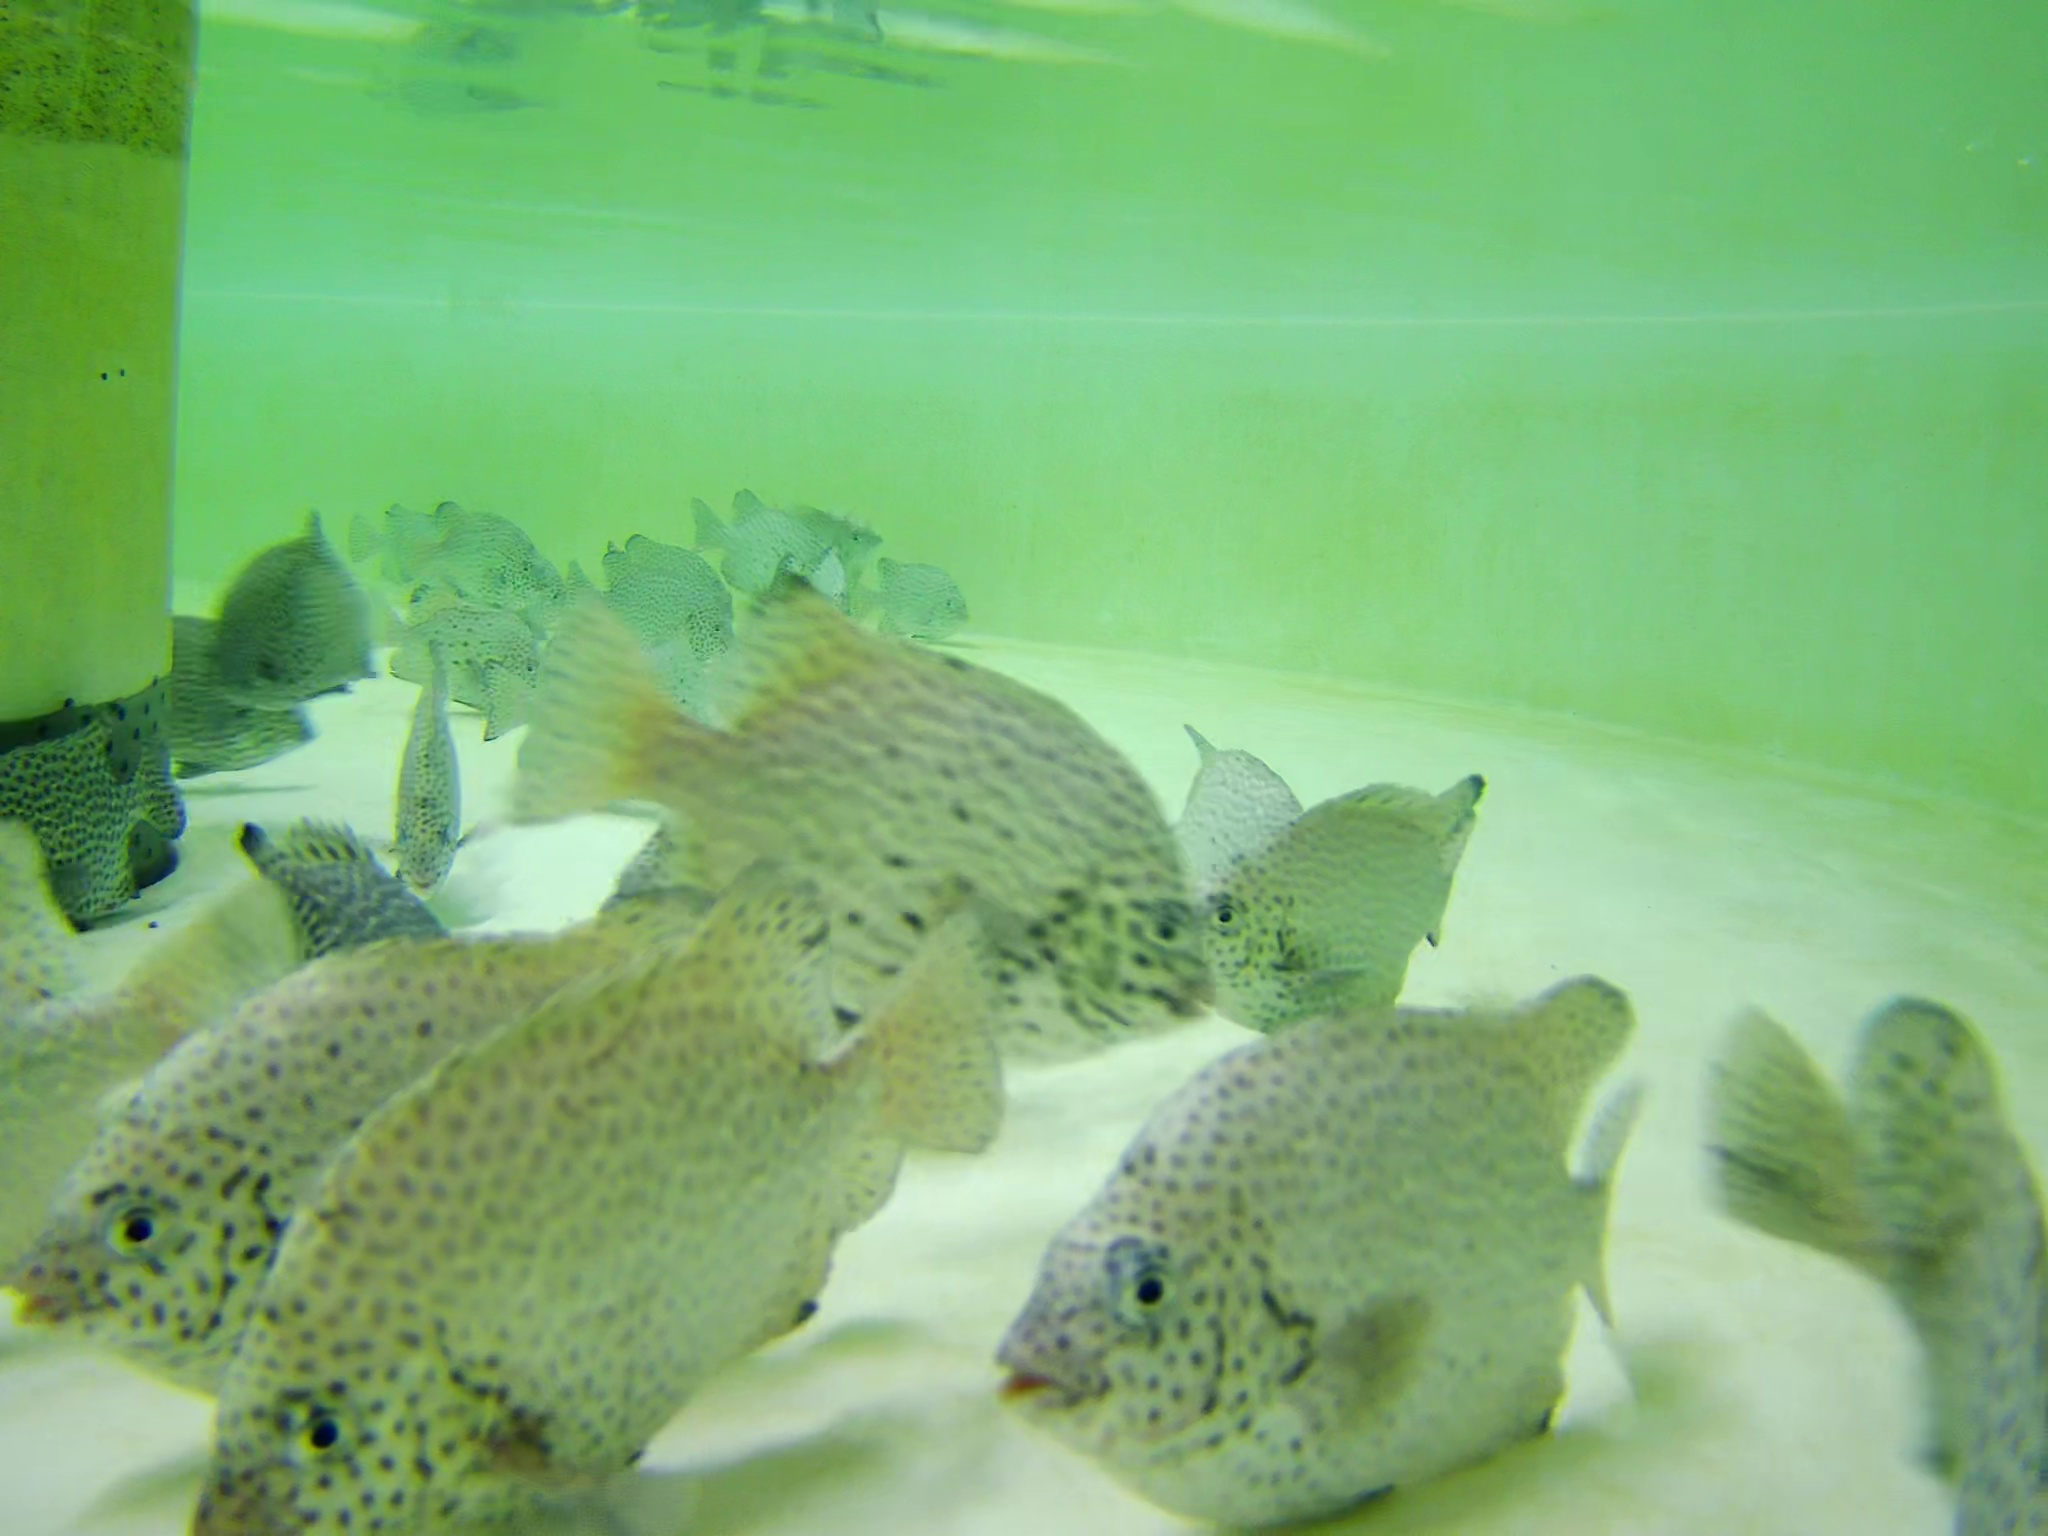fish: (197, 866, 1000, 1536), (998, 983, 1651, 1523), (519, 557, 1213, 1058), (6, 915, 705, 1409), (1724, 976, 2048, 1536), (1208, 765, 1487, 1018), (221, 820, 485, 1031), (10, 702, 182, 918), (1163, 724, 1319, 929), (214, 528, 381, 703), (163, 608, 316, 776), (700, 479, 880, 616), (384, 642, 464, 895), (393, 497, 558, 607), (579, 542, 734, 657), (376, 594, 543, 697), (856, 555, 979, 639), (335, 510, 443, 570)
